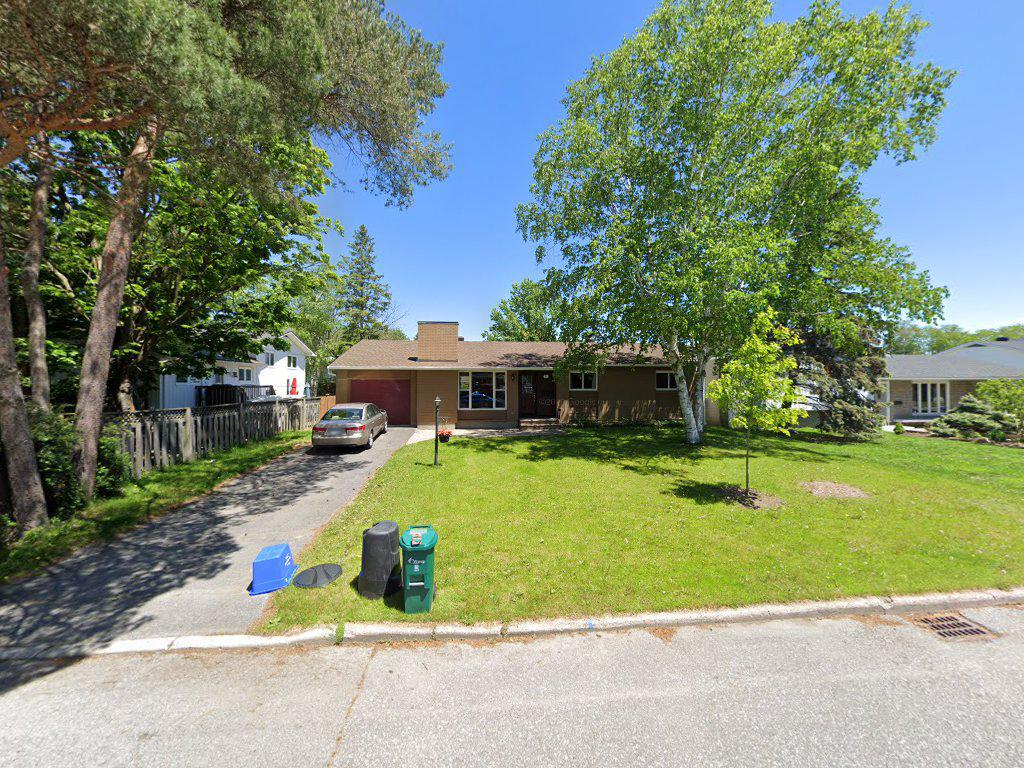trunk: (2, 277, 129, 525)
